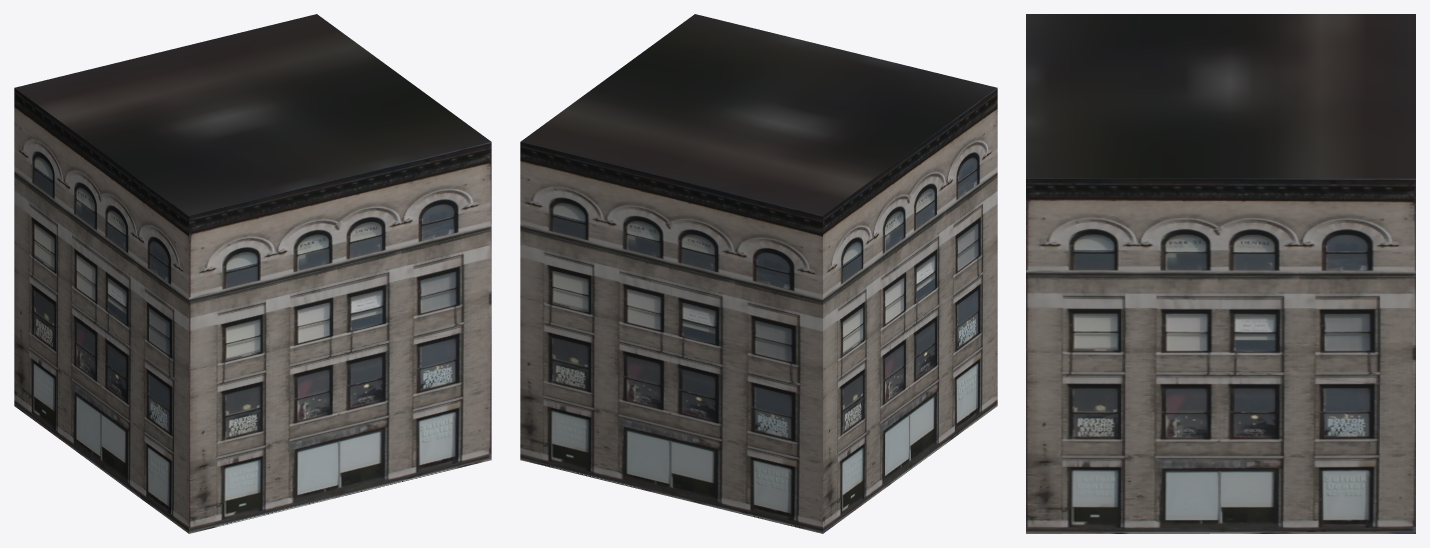
File: 1x1_sbuilding.dae
The picture shows the model from 3 angles, left to right: view 1: azimuth 30°, elevation 25°; view 2: azimuth 150°, elevation 25°; view 3: azimuth 270°, elevation 25°; orthographic projection. The views are drawn at different scales.
Parts seen in each view (by area): view 1: pCube1; view 2: pCube1; view 3: pCube1.
Boxes of the visible parts, x1,y1,x2,y2 form: pCube1: (14,14,491,533); pCube1: (520,14,997,533); pCube1: (1026,14,1415,533).
Bounding box in the file's own units: 100 × 100 × 100.
